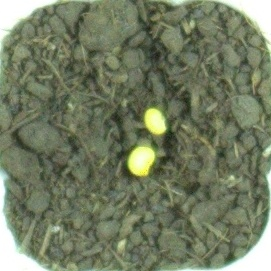pepper seed: (47, 56, 205, 235), (57, 39, 228, 175)
